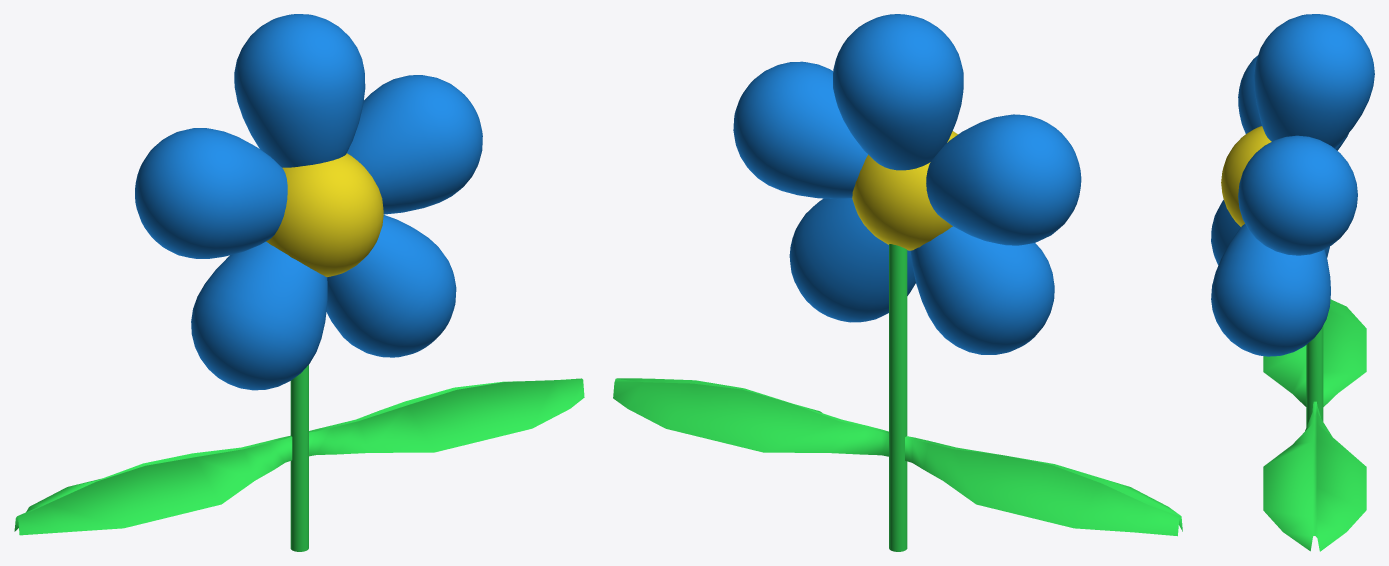
The model's file is A3FlowerClone.fbx.
3 views of the same model, side by side, from view 1: azimuth 30°, elevation 25°; view 2: azimuth 150°, elevation 25°; view 3: azimuth 270°, elevation 25° (orthographic). The views are drawn at different scales.
Parts seen in each view (by area): view 1: Sphere, Plane, Sphere.001, Cylinder; view 2: Sphere, Plane, Sphere.001, Cylinder; view 3: Sphere, Plane, Sphere.001, Cylinder.
Boxes of the visible parts, box(x1,y1,x2,y2) form: Sphere: box(135, 14, 482, 390); Plane: box(14, 378, 584, 535); Sphere.001: box(266, 153, 383, 277); Cylinder: box(290, 365, 308, 551); Sphere: box(733, 14, 1081, 354); Plane: box(613, 378, 1182, 536); Sphere.001: box(852, 131, 957, 250); Cylinder: box(889, 244, 907, 551); Sphere: box(1211, 14, 1374, 356); Plane: box(1263, 299, 1366, 551); Sphere.001: box(1221, 126, 1271, 226); Cylinder: box(1306, 326, 1323, 426).
Bounding box in the file's own units: 992 × 886 × 273.
